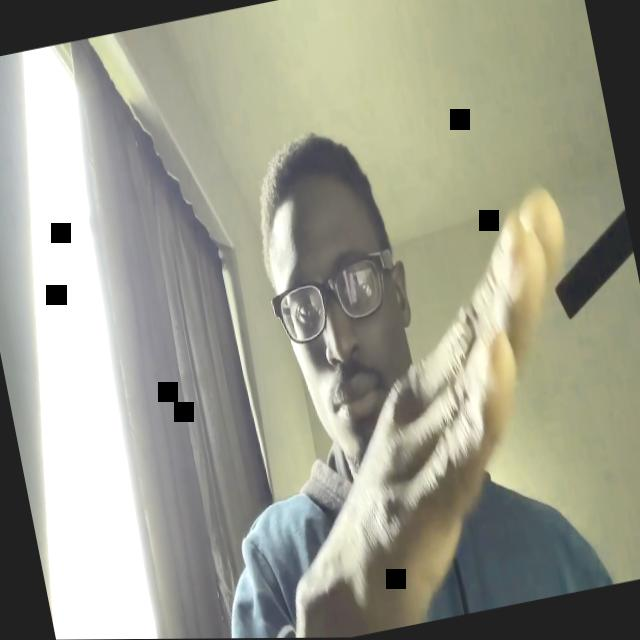Paper: (234, 184, 630, 639)
